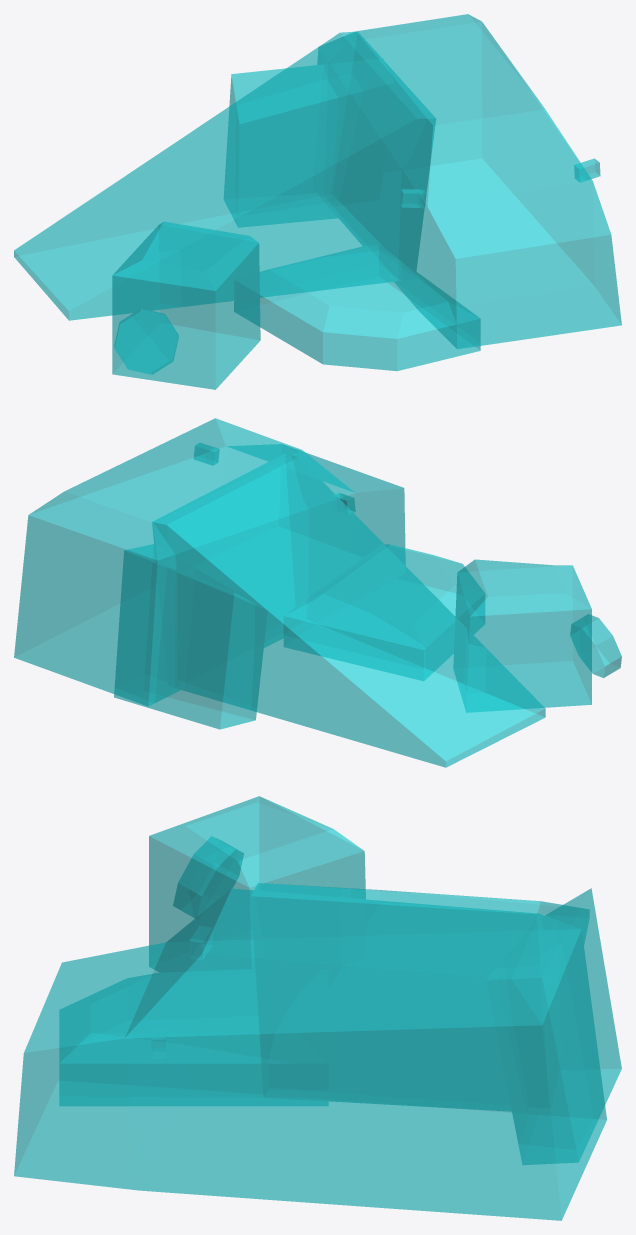
File: SM_Obstacle_01_Collision.fbx
3 renders of one model, top to bottom at view 1: azimuth 30°, elevation 25°; view 2: azimuth 150°, elevation 25°; view 3: azimuth 270°, elevation 25°, orthographic. The views are drawn at different scales.
Visible parts, largest first — view 1: Obstacle_01_Collision; view 2: Obstacle_01_Collision; view 3: Obstacle_01_Collision.
Part boxes in pixels (x1=…): Obstacle_01_Collision: x1=14, y1=14, x2=621, y2=389; Obstacle_01_Collision: x1=14, y1=418, x2=621, y2=767; Obstacle_01_Collision: x1=14, y1=796, x2=621, y2=1220.
Size of the model in its own units: 645 by 228 by 515.
